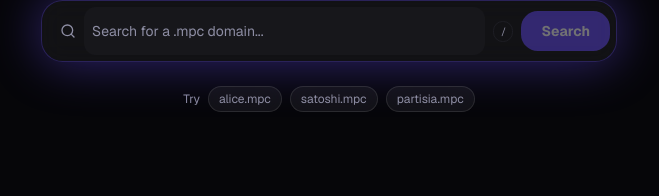
DomainSearch › Recent searches › empties the row on request
Type "alice" into the field with placeholder "Search for a .mpc domain...".
click(285, 31); type("alice")  # box [84,7,486,55]
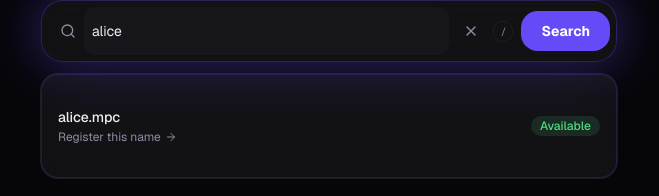
Clear the field with placeholder "Search for a .mpc domain..." at {"x": 267, "y": 31}, box [84,7,450,55]
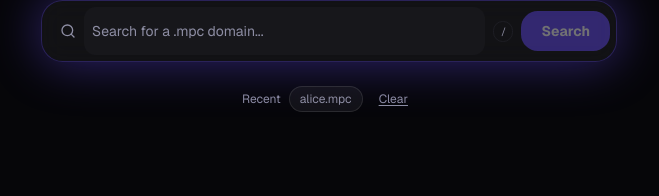
Click the button with test id "clear-recent-searches".
click(393, 99)  # box [371,87,416,111]
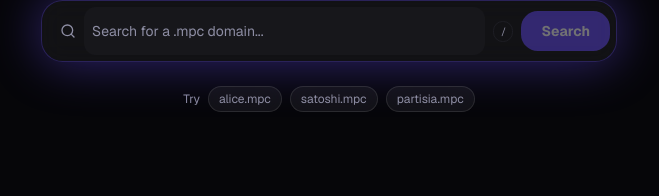
Check: the element with test id "recent-searches" is gone
